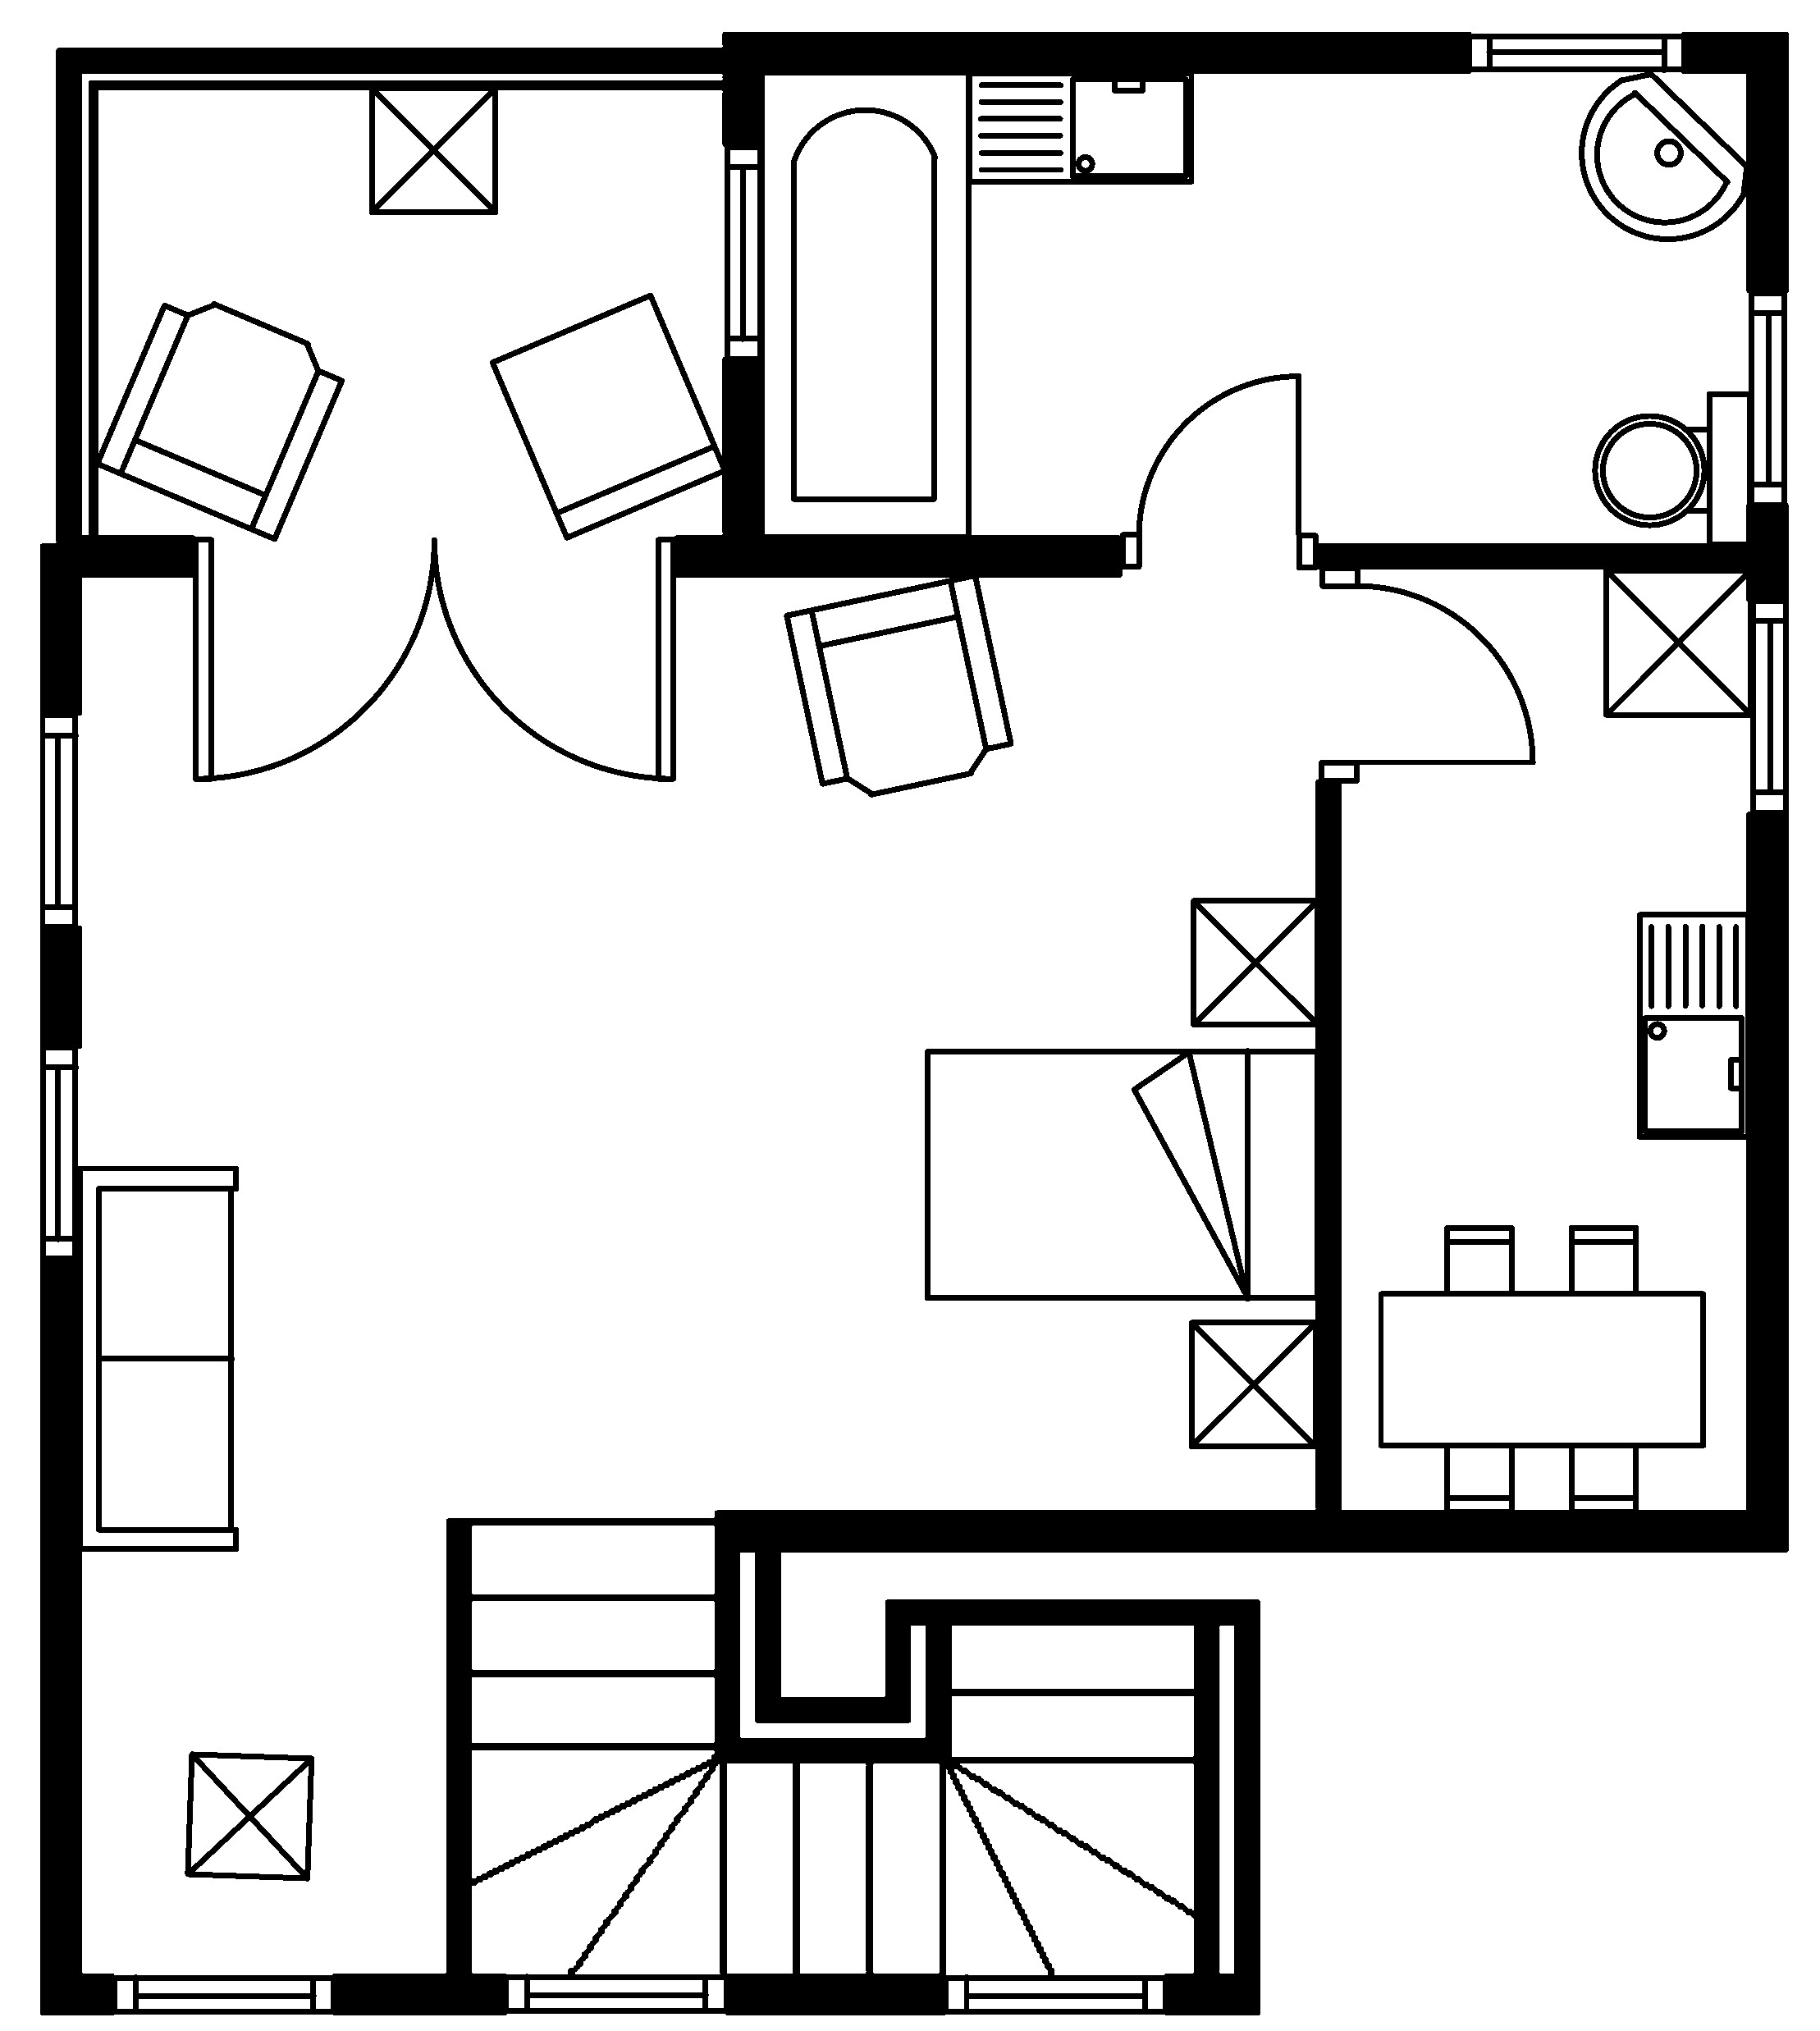armchair: (93, 299, 344, 543), (782, 571, 1014, 798)
bed: (922, 1047, 1321, 1302)
coffee_table: (1602, 566, 1753, 719), (1186, 1318, 1319, 1449), (1189, 896, 1321, 1028), (183, 1750, 314, 1882), (367, 84, 499, 214)
dining_table: (1376, 1223, 1706, 1516)
large_sink: (1592, 388, 1753, 548)
large_sofa: (76, 1163, 239, 1551)
sink: (1634, 910, 1750, 1140), (964, 69, 1195, 184)
small_sink: (1578, 70, 1750, 241)
small_sofa: (488, 290, 727, 541)
tub: (757, 69, 971, 539)
